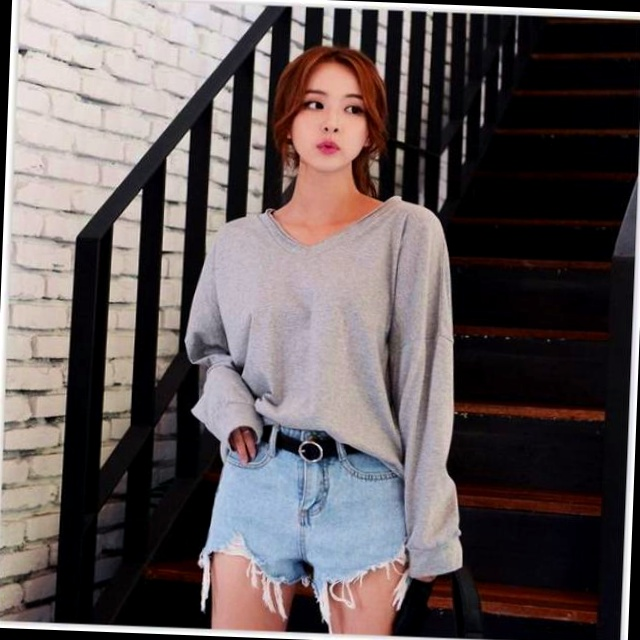Shorts: (202, 414, 420, 640)
